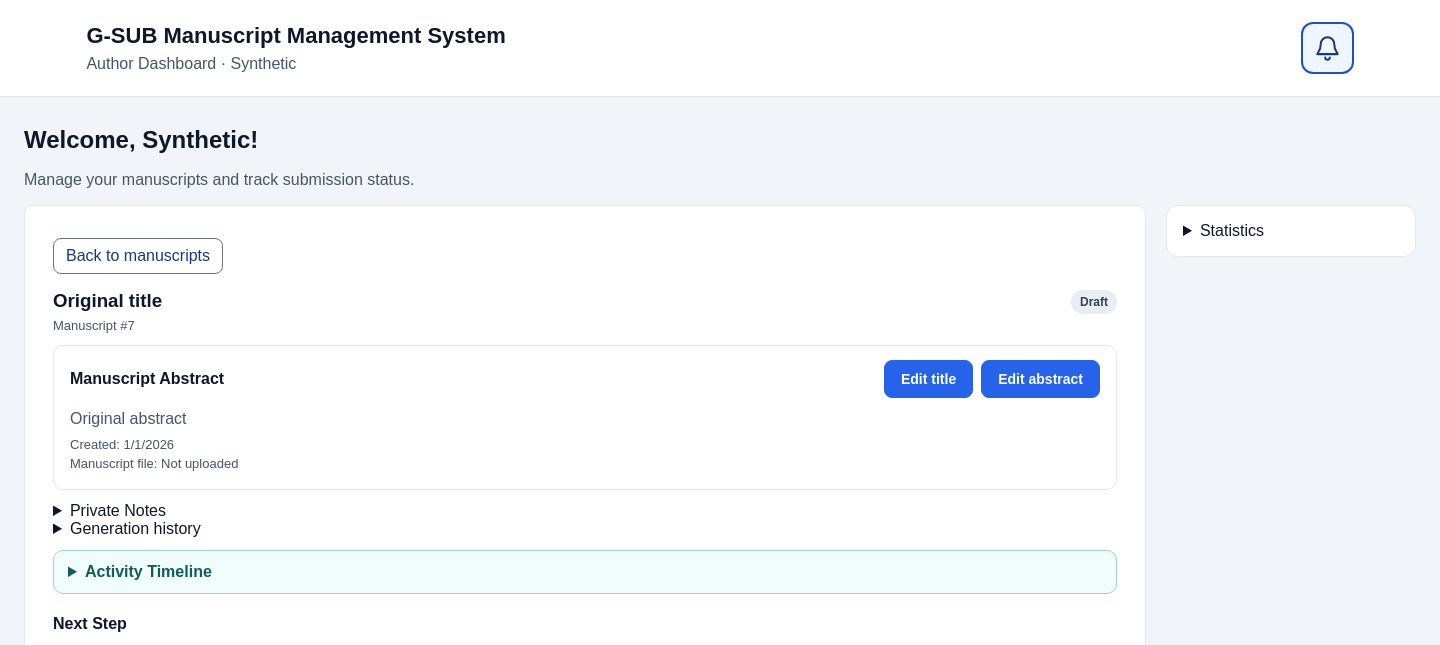
Scenario: keeps field loading and failures independent during concurrent saves
Earlier steps of the test are not shown.
Later steps or results of the test are not shown.
Click the button "Edit title". click: (929,379)
box: [884,360,973,398]
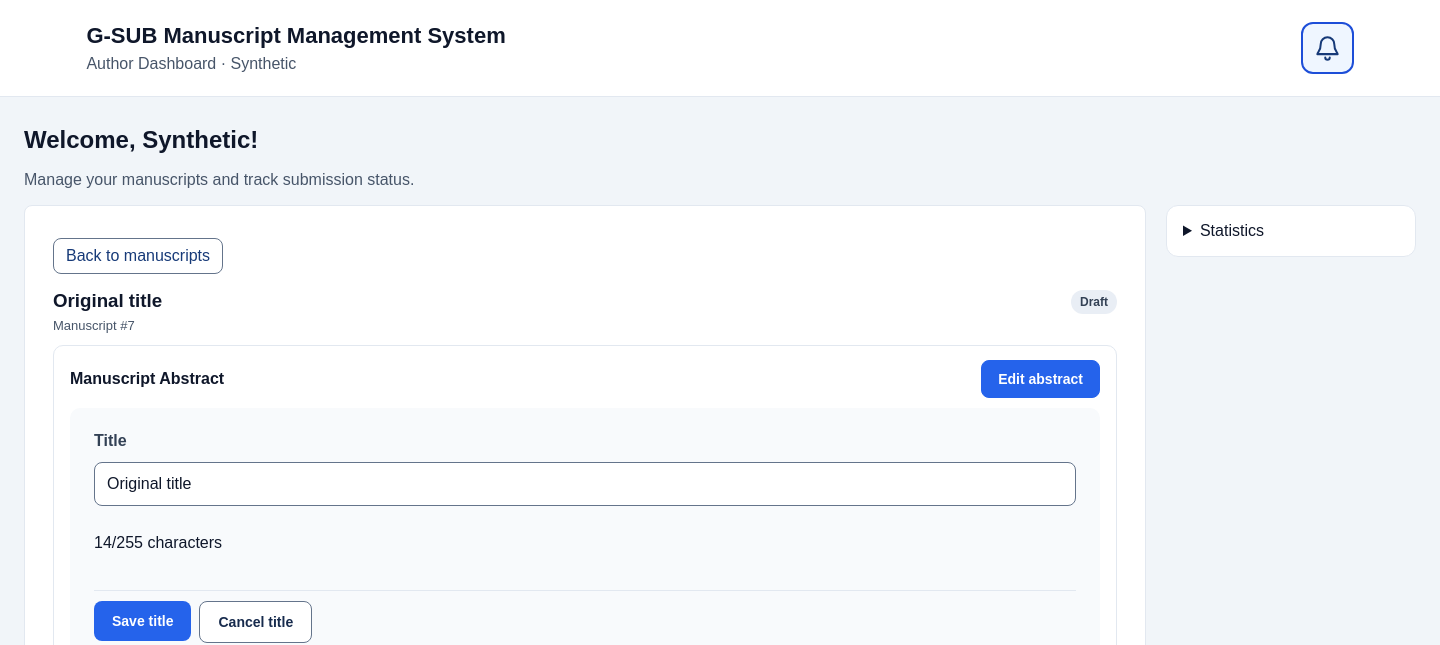
Click the button "Edit abstract". click: (1041,379)
box: [981,360,1100,398]
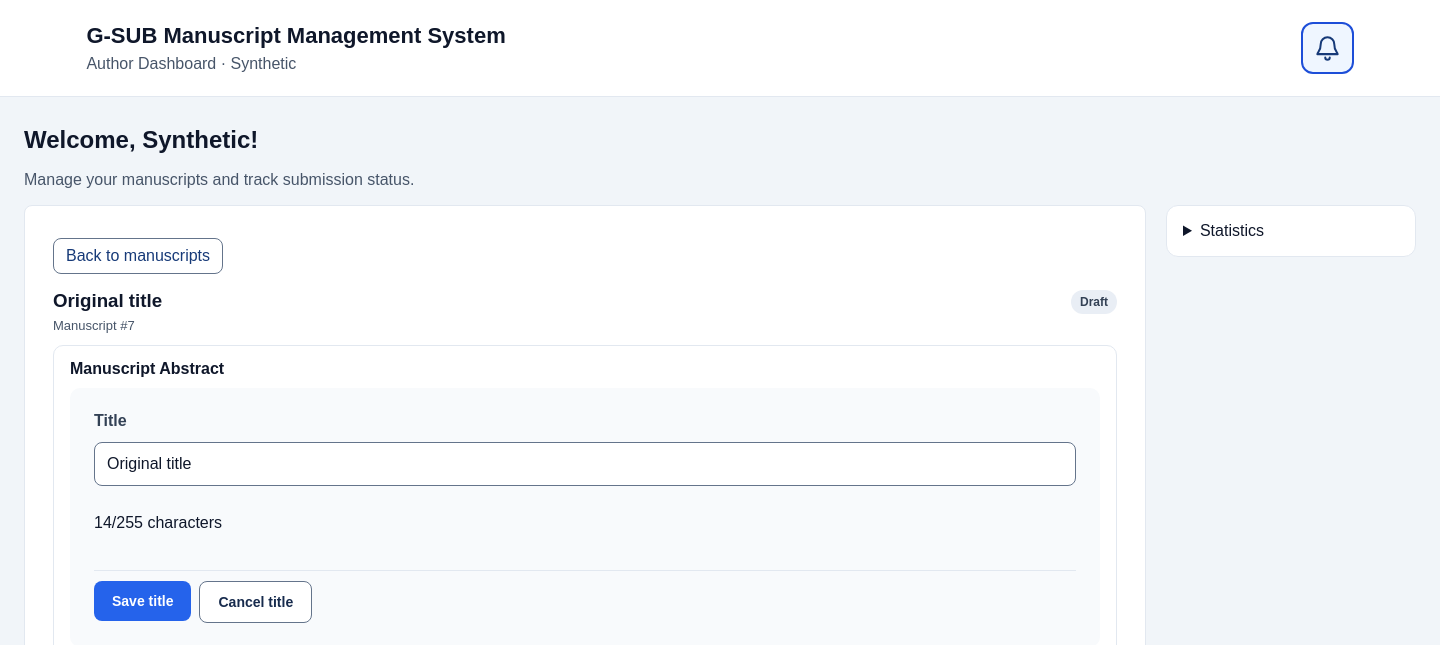
Replace the text in the field labelled "Title" with "Unsaved title". click: (585,464)
box: [94,442,1076,486]
(page scrolled)
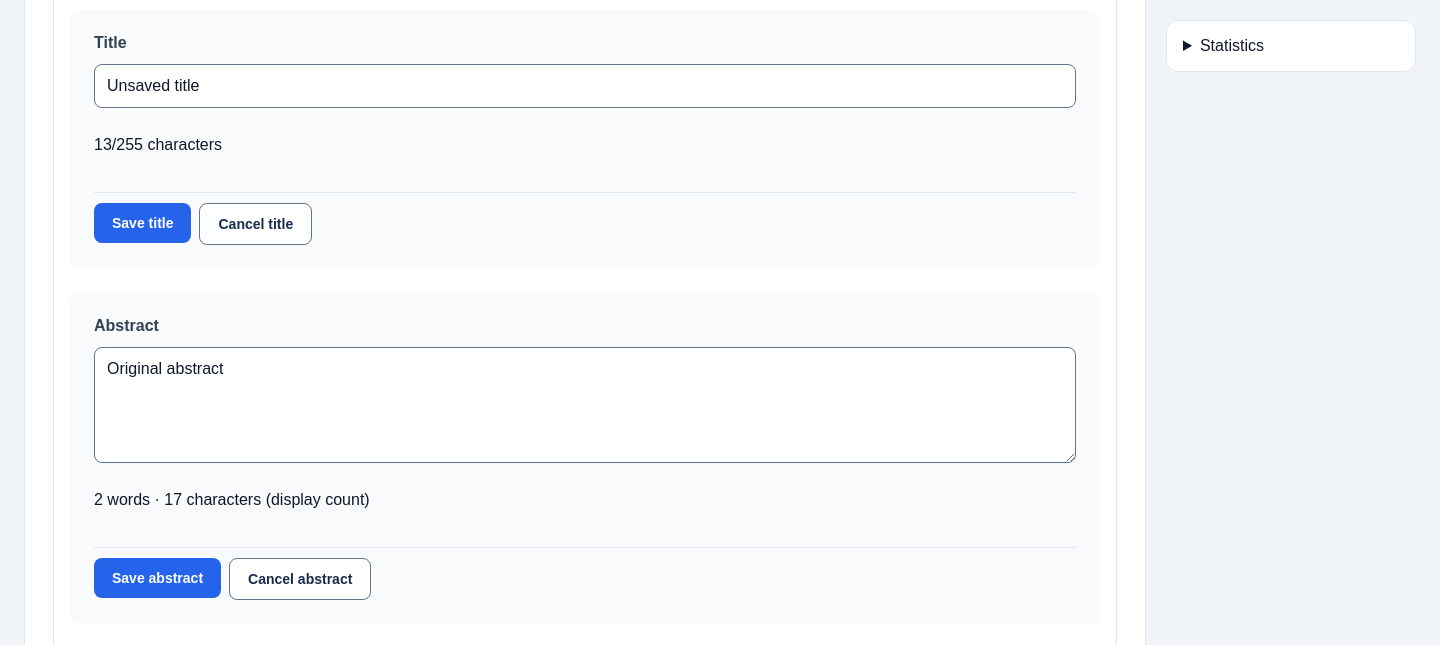
Replace the text in the text box labelled "Abstract" with "Saved abstract". click: (585,405)
box: [94,347,1076,463]
Click the button "Save title". click: (143,223)
box: [94,203,192,243]
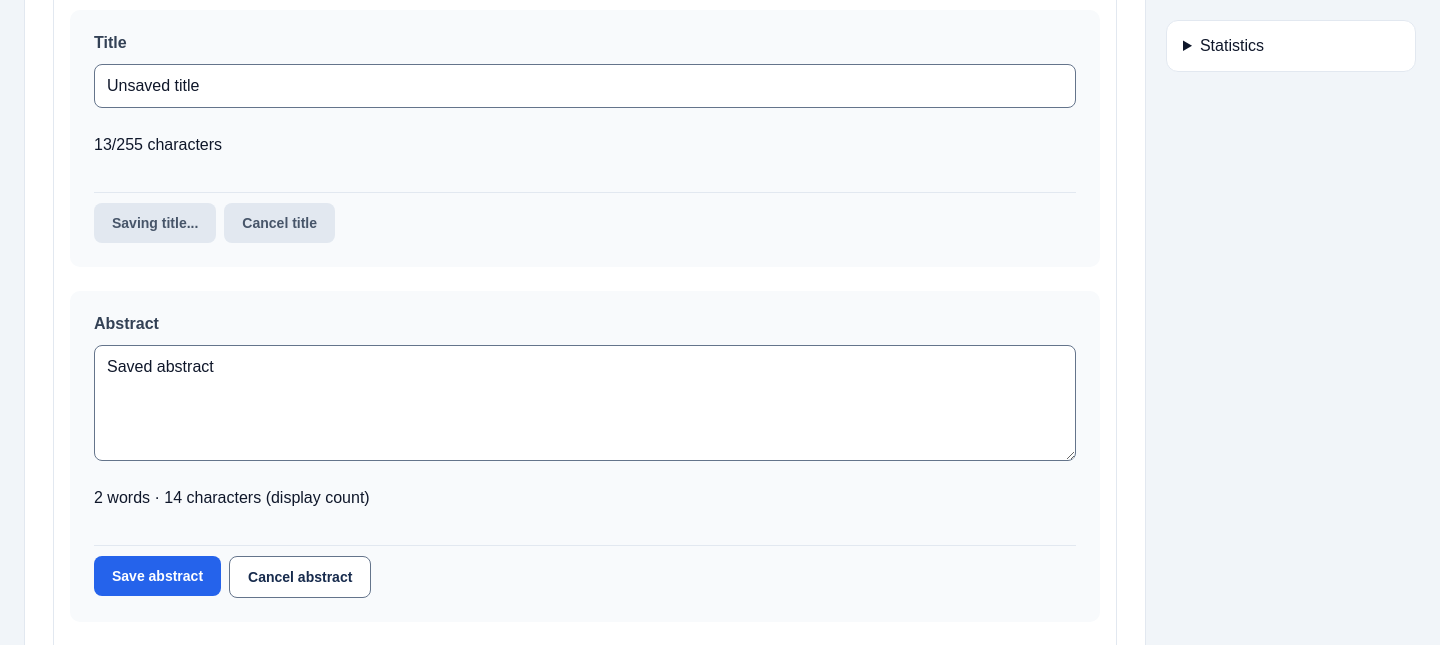
Result: the button "Save abstract" is enabled
Result: the button "Saving title..." is disabled at [94,203,216,243]
Click the button "Save abstract". click: (158,576)
box: [94,556,221,596]
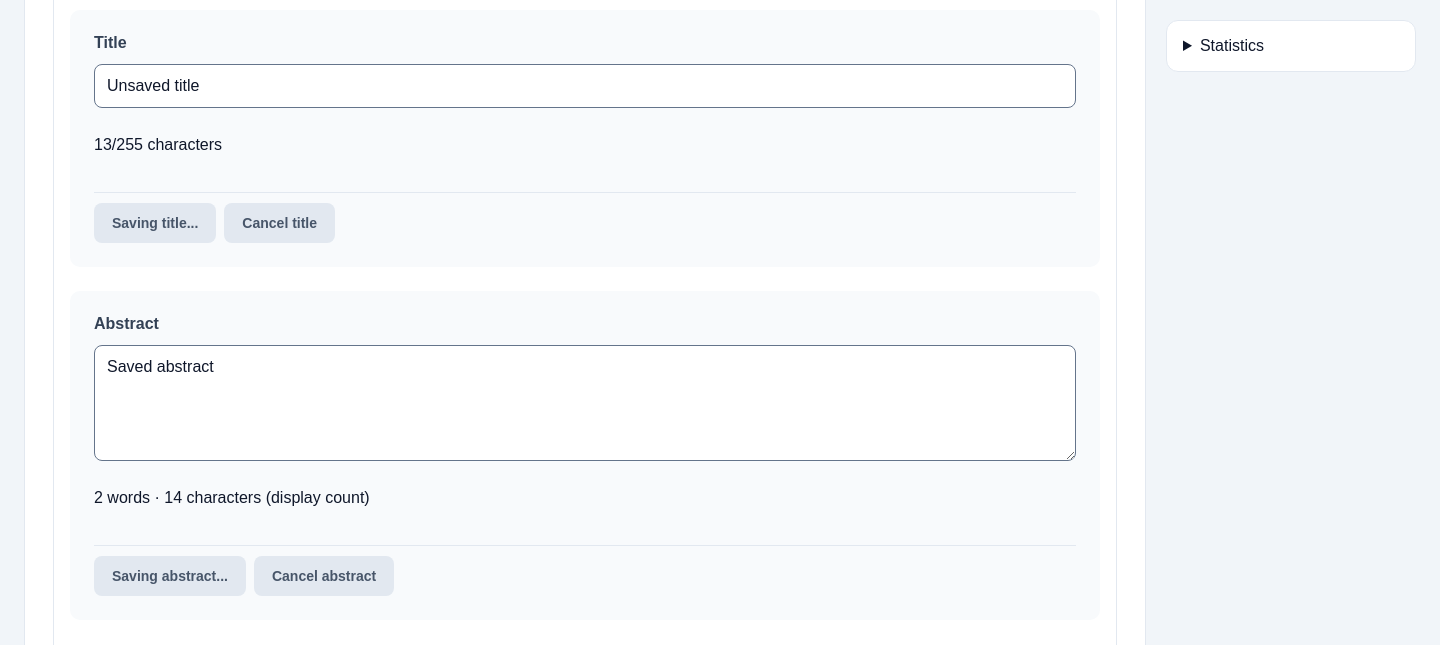
Submit the form labelled "Title", box [70,10,1100,267]
(page scrolled)
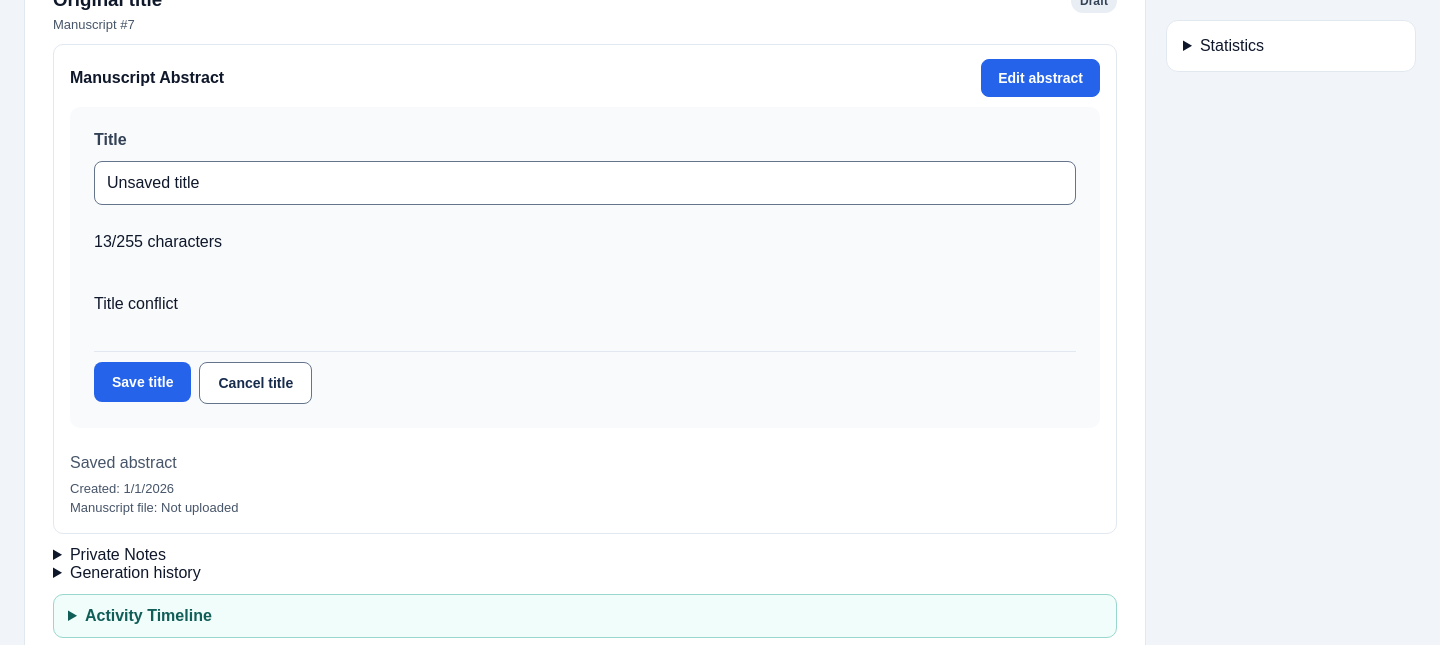
Result: the text "Title conflict" is shown at [94,295,178,312]
